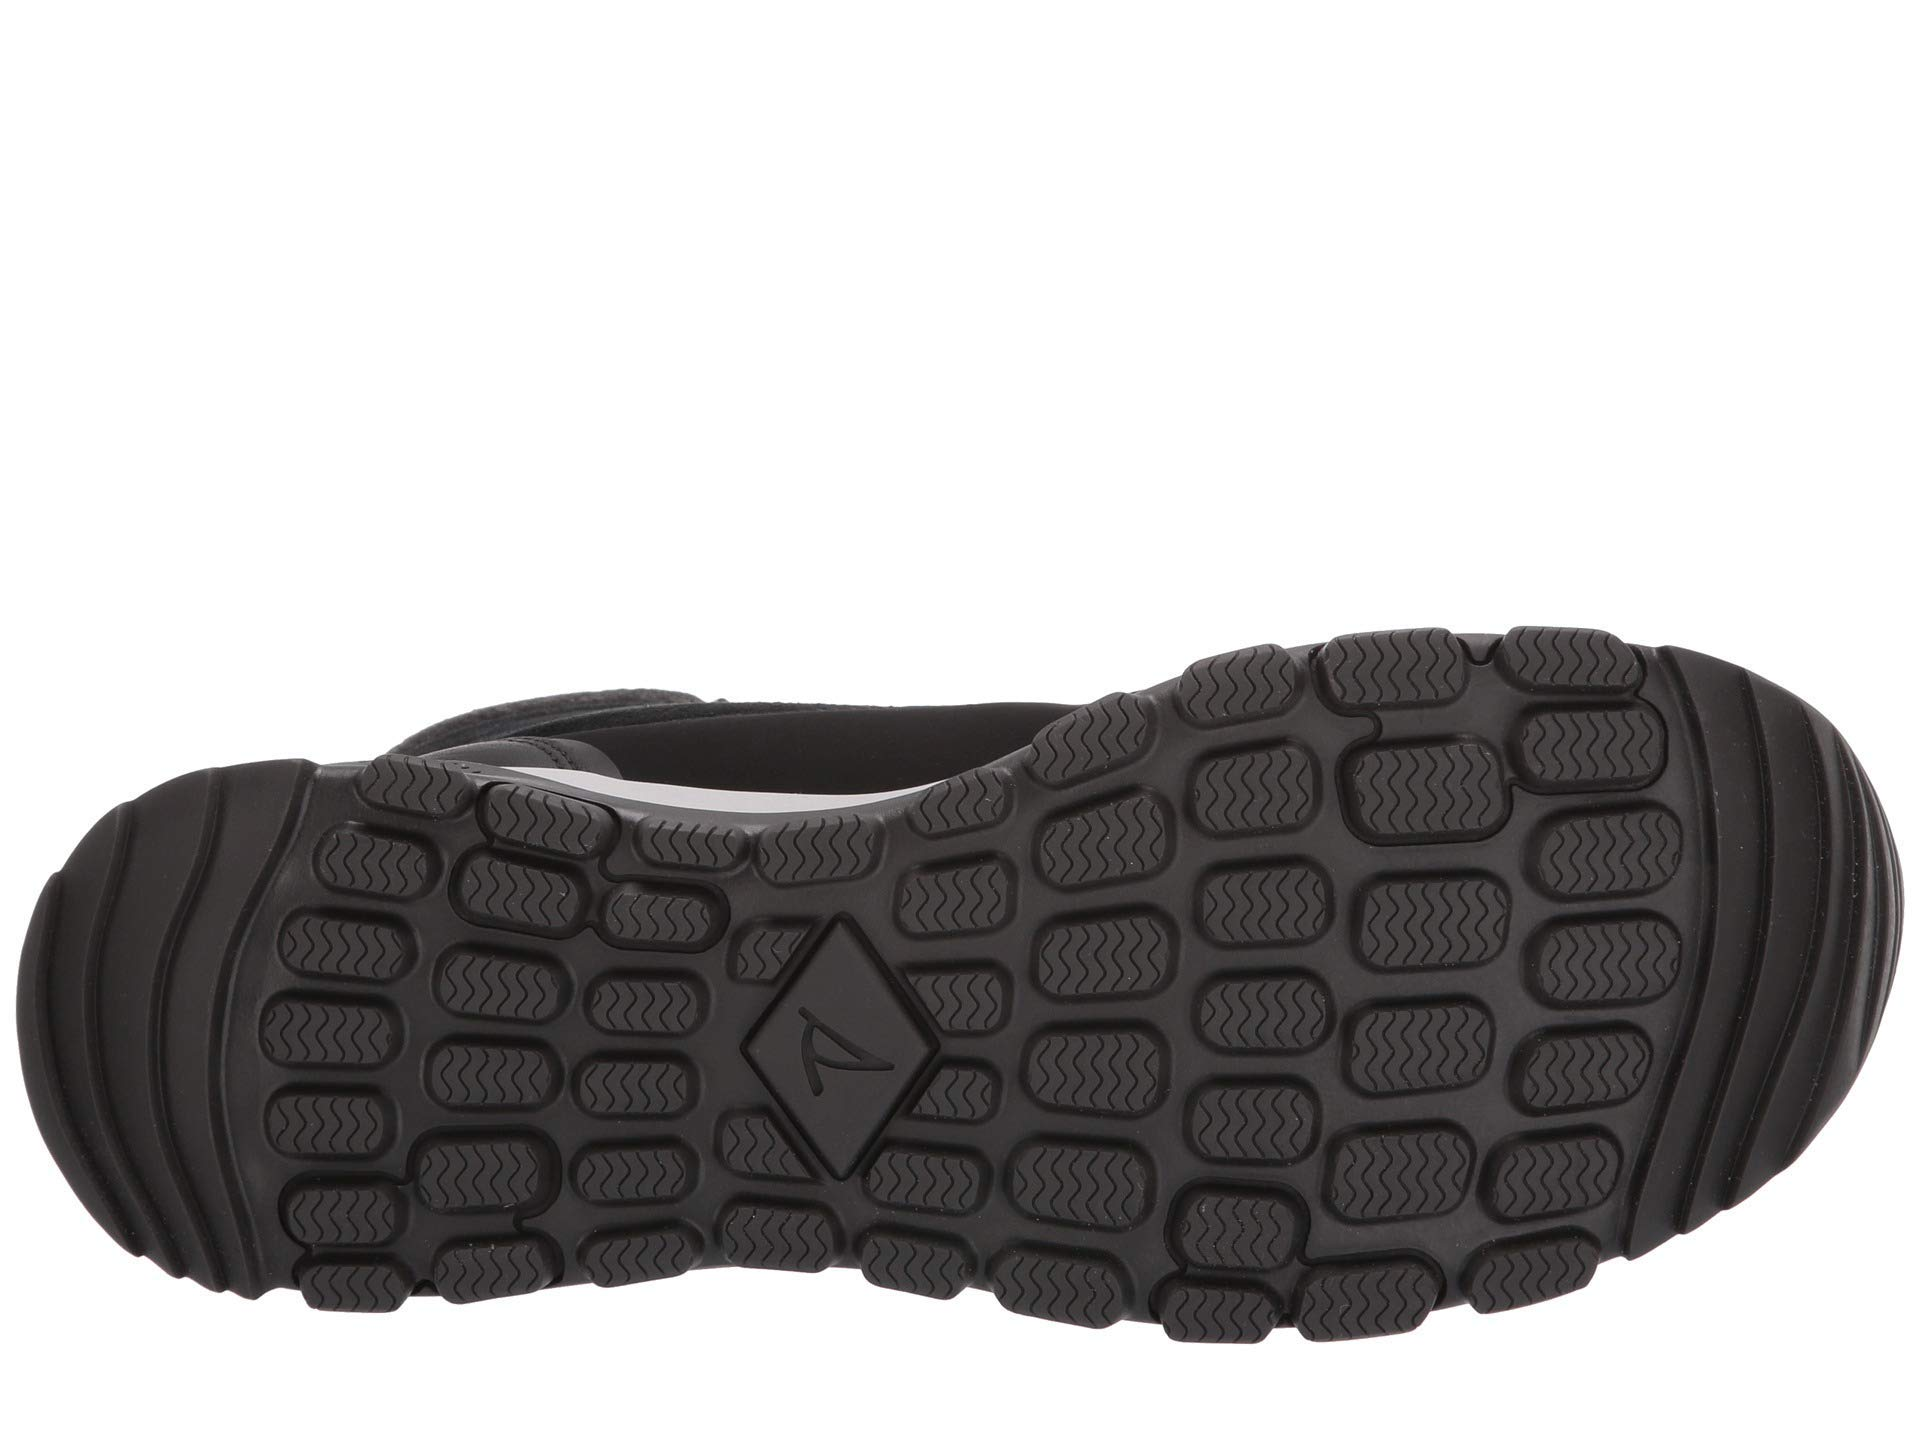chevron: (1161, 725, 1678, 1240), (680, 830, 1098, 1245)
quad: (1161, 725, 1678, 1240), (680, 830, 1098, 1245)
text: (680, 830, 1098, 1245)
